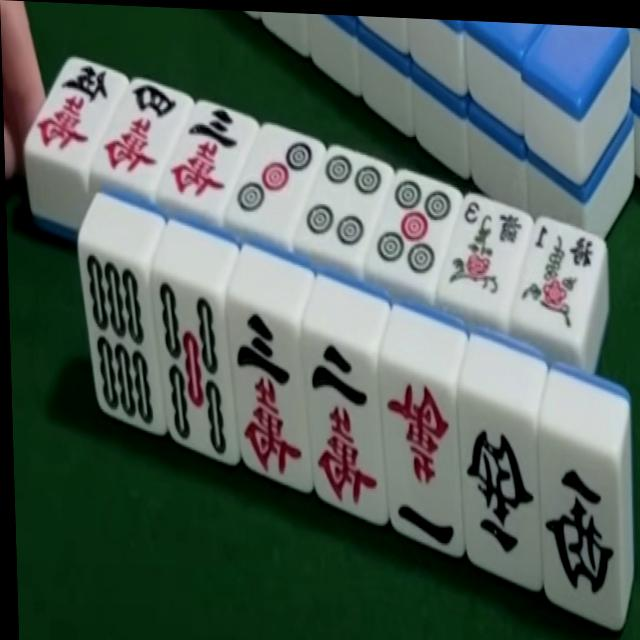f1: (513, 214, 608, 345)
f3: (440, 194, 532, 309)
m1: (381, 351, 457, 549)
m2: (300, 327, 385, 520)
m3: (226, 301, 306, 488), (159, 102, 257, 214)
m4: (104, 77, 180, 186)
m5: (24, 55, 122, 172)
s5: (149, 277, 233, 462)
s6: (83, 245, 162, 433)
t3: (225, 124, 322, 239)
t4: (297, 150, 394, 267)
t5: (365, 173, 462, 294)
west: (539, 422, 618, 613), (462, 397, 536, 576)
